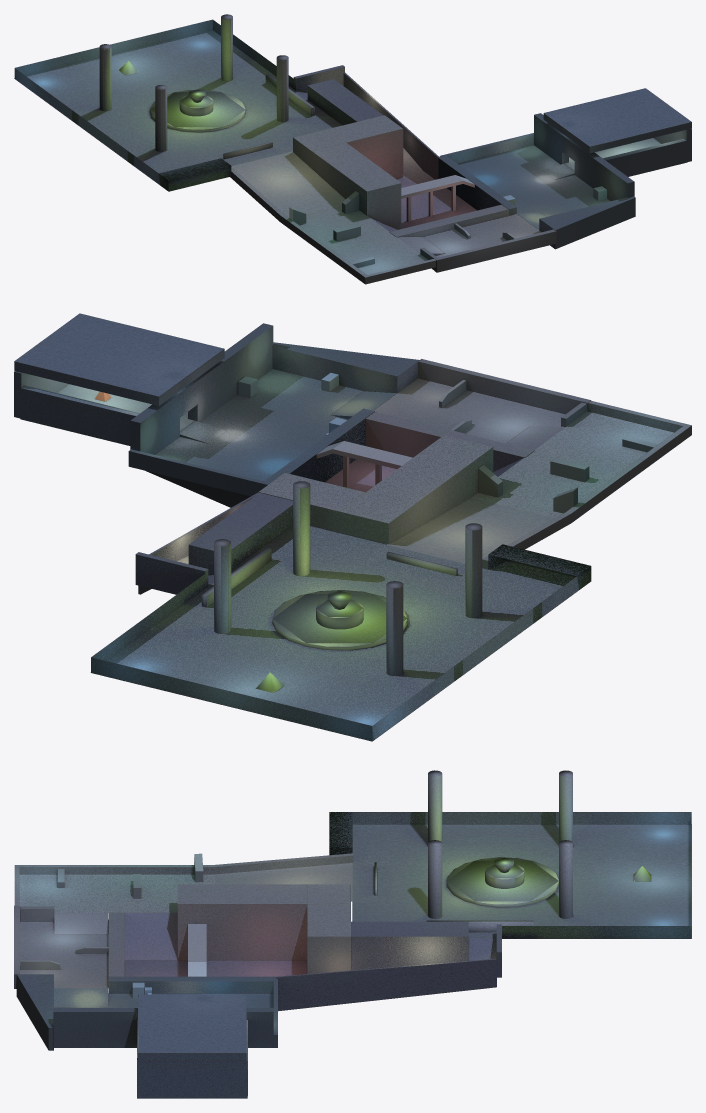
3 views of the same model, one above another, from view 1: azimuth 30°, elevation 25°; view 2: azimuth 150°, elevation 25°; view 3: azimuth 270°, elevation 25° (orthographic). The views are drawn at different scales.
Parts seen in each view (by area): view 1: Plane.005, Cube.006, Plane.002, Plane.001, Plane.008, stepper.002, Cube.021, spawnPoint_2, Cube.018, Cube.025; view 2: Plane.005, Plane.002, Cube.006, Plane.001, stepper.002, Plane.008, Cube.021, spawnPoint_2, Cube.018, Cube.025, Cube.015; view 3: Plane.005, Cube.006, Plane.008, Plane.001, Plane.002, stepper.002, Cube.021, spawnPoint_2, Cube.018, Cube.025.
Boxes of the visible parts, x1=… form: Plane.005: x1=14, y1=19, x2=342, y2=191; Cube.006: x1=230, y1=115, x2=436, y2=284; Plane.002: x1=438, y1=113, x2=635, y2=249; Plane.001: x1=543, y1=88, x2=691, y2=176; Plane.008: x1=293, y1=65, x2=476, y2=231; stepper.002: x1=390, y1=204, x2=556, y2=272; Cube.021: x1=99, y1=14, x2=314, y2=158; spawnPoint_2: x1=119, y1=61, x2=245, y2=132; Cube.018: x1=289, y1=191, x2=516, y2=267; Cube.025: x1=401, y1=175, x2=474, y2=221; Plane.005: x1=90, y1=525, x2=591, y2=741; Plane.002: x1=128, y1=323, x2=419, y2=507; Cube.006: x1=258, y1=400, x2=691, y2=569; Plane.001: x1=14, y1=313, x2=224, y2=445; stepper.002: x1=365, y1=359, x2=590, y2=471; Plane.008: x1=135, y1=458, x2=522, y2=594; Cube.021: x1=201, y1=481, x2=482, y2=675; spawnPoint_2: x1=256, y1=590, x2=407, y2=692; Cube.018: x1=439, y1=380, x2=657, y2=513; Cube.025: x1=316, y1=441, x2=412, y2=488; Cube.015: x1=238, y1=373, x2=346, y2=435; Plane.005: x1=329, y1=812, x2=691, y2=938; Cube.006: x1=14, y1=853, x2=352, y2=973; Plane.008: x1=124, y1=912, x2=501, y2=1011; Plane.001: x1=137, y1=994, x2=247, y2=1098; Plane.002: x1=16, y1=974, x2=277, y2=1050; stepper.002: x1=14, y1=905, x2=124, y2=988; Cube.021: x1=374, y1=770, x2=572, y2=932; spawnPoint_2: x1=447, y1=857, x2=650, y2=907; Cube.018: x1=20, y1=853, x2=203, y2=969; Cube.025: x1=188, y1=924, x2=206, y2=976.
Size of the model in its own units: 84.01 by 18.21 by 94.9.
12 materials, 12 textured.
